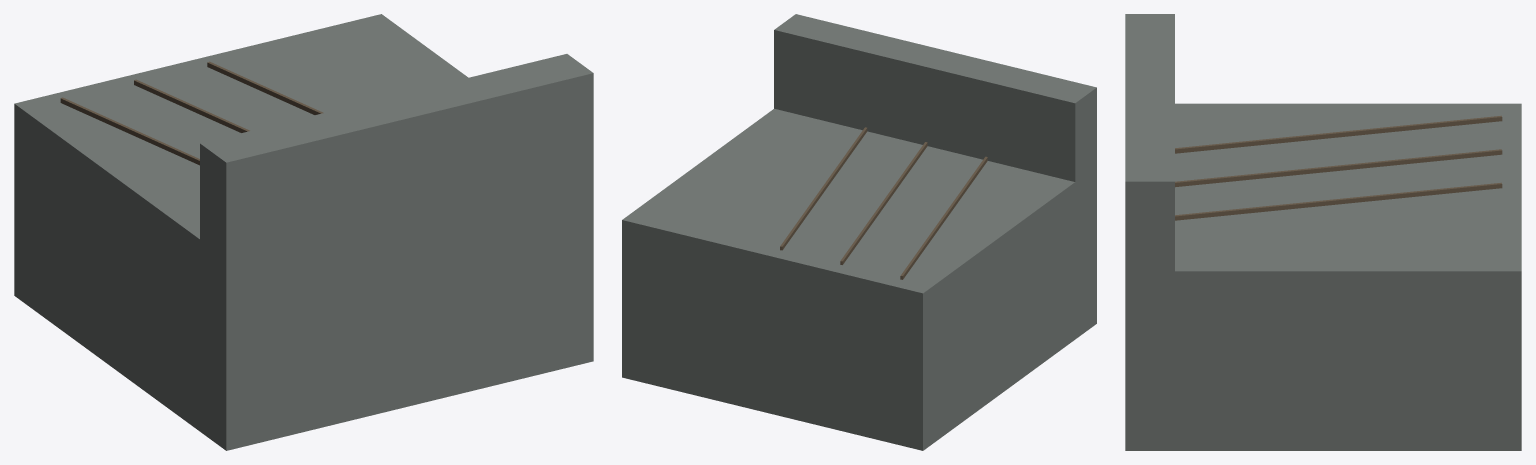
The model's file is terrain-rock-edge.lod0.glb.
3 views of the same model, side by side, from view 1: azimuth 30°, elevation 25°; view 2: azimuth 150°, elevation 25°; view 3: azimuth 270°, elevation 25° (orthographic). The views are drawn at different scales.
Visible parts, largest first — view 1: terrain-rock-edge__body; view 2: terrain-rock-edge__body; view 3: terrain-rock-edge__body.
Boxes of the visible parts, x1,y1,x2,y2 form: terrain-rock-edge__body: (14, 14, 593, 450); terrain-rock-edge__body: (622, 14, 1096, 450); terrain-rock-edge__body: (1125, 14, 1521, 450).
Size of the model in its own units: 2 by 1.5 by 2.
